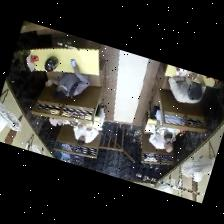person: (45, 65, 89, 99), (168, 75, 205, 102), (73, 124, 101, 144), (148, 132, 172, 151), (152, 104, 161, 126)
